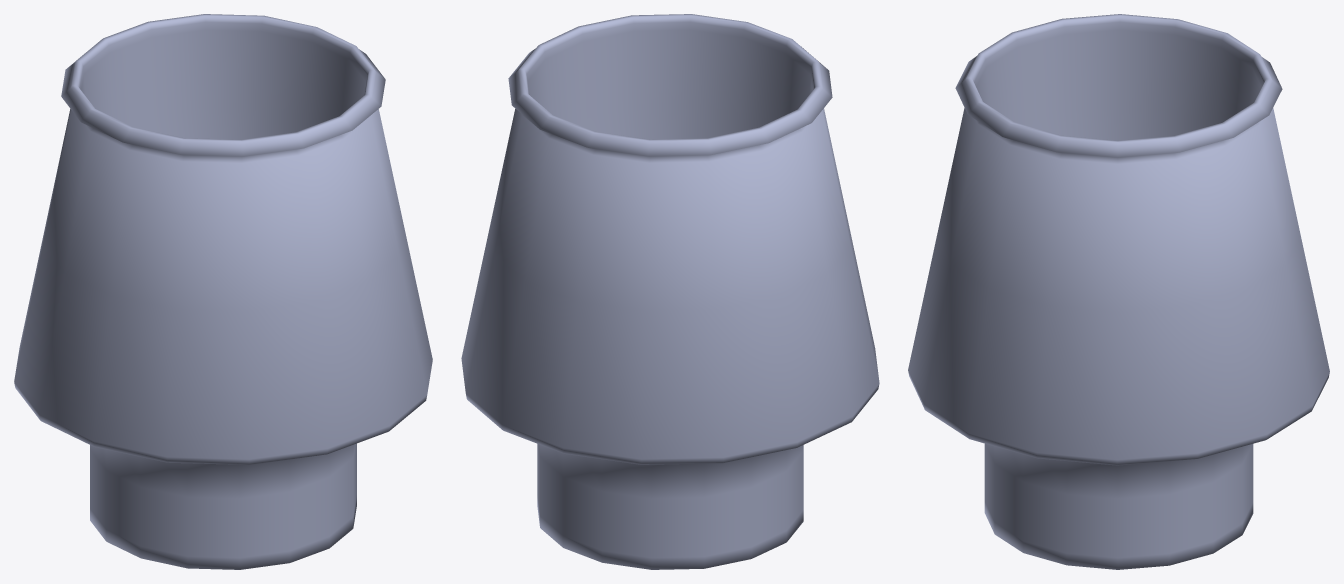
Rendered from Faucet1.fbx.
The picture shows the model from 3 angles, left to right: view 1: azimuth 30°, elevation 25°; view 2: azimuth 150°, elevation 25°; view 3: azimuth 270°, elevation 25°; orthographic projection.
Visible parts, largest first — view 1: Grifo.003; view 2: Grifo.003; view 3: Grifo.003.
Part boxes in pixels (x1,y1,x2,y2): Grifo.003: (14,14,432,569); Grifo.003: (461,14,879,569); Grifo.003: (908,14,1329,569).
Bounding box in the file's own units: 3.15 × 3.62 × 3.15.
